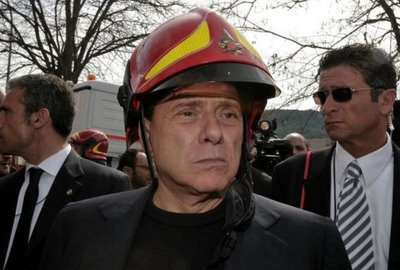helmet: (122, 15, 285, 104)
